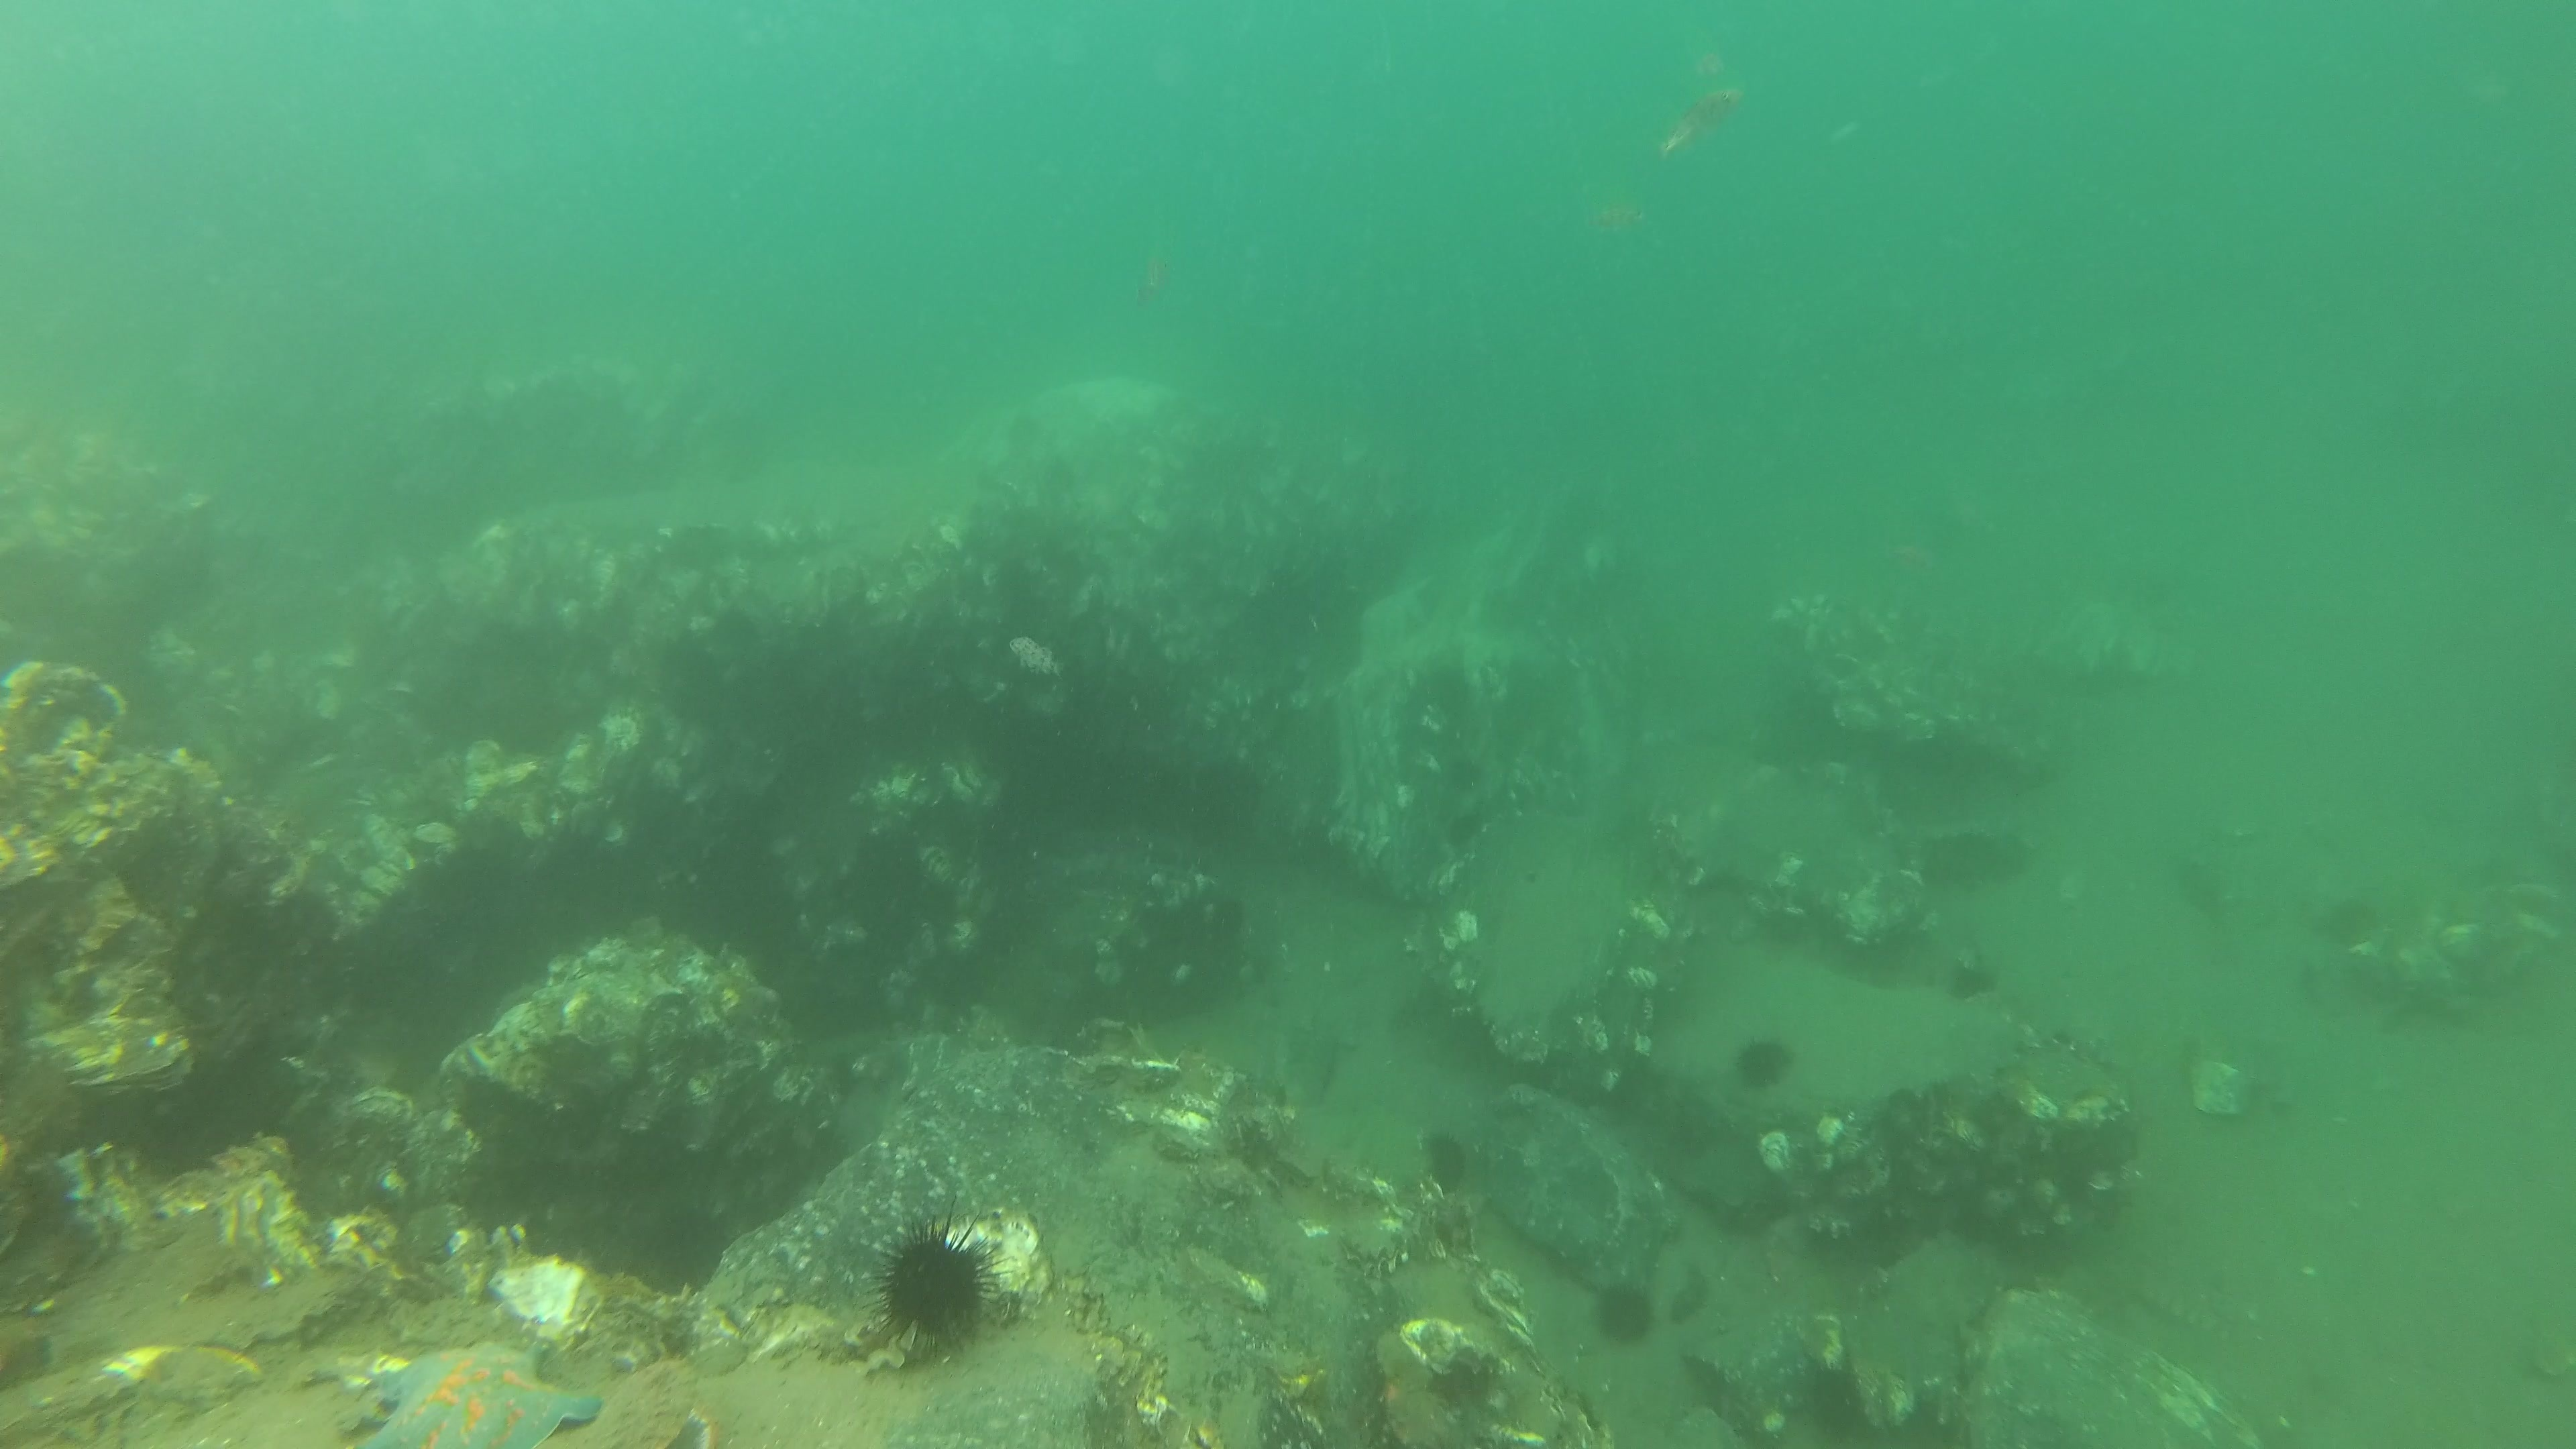echinus: (869, 1212, 1005, 1348), (1592, 1276, 1661, 1353), (1414, 1122, 1483, 1200), (1734, 1028, 1803, 1104)
starfish: (352, 1338, 605, 1449)
